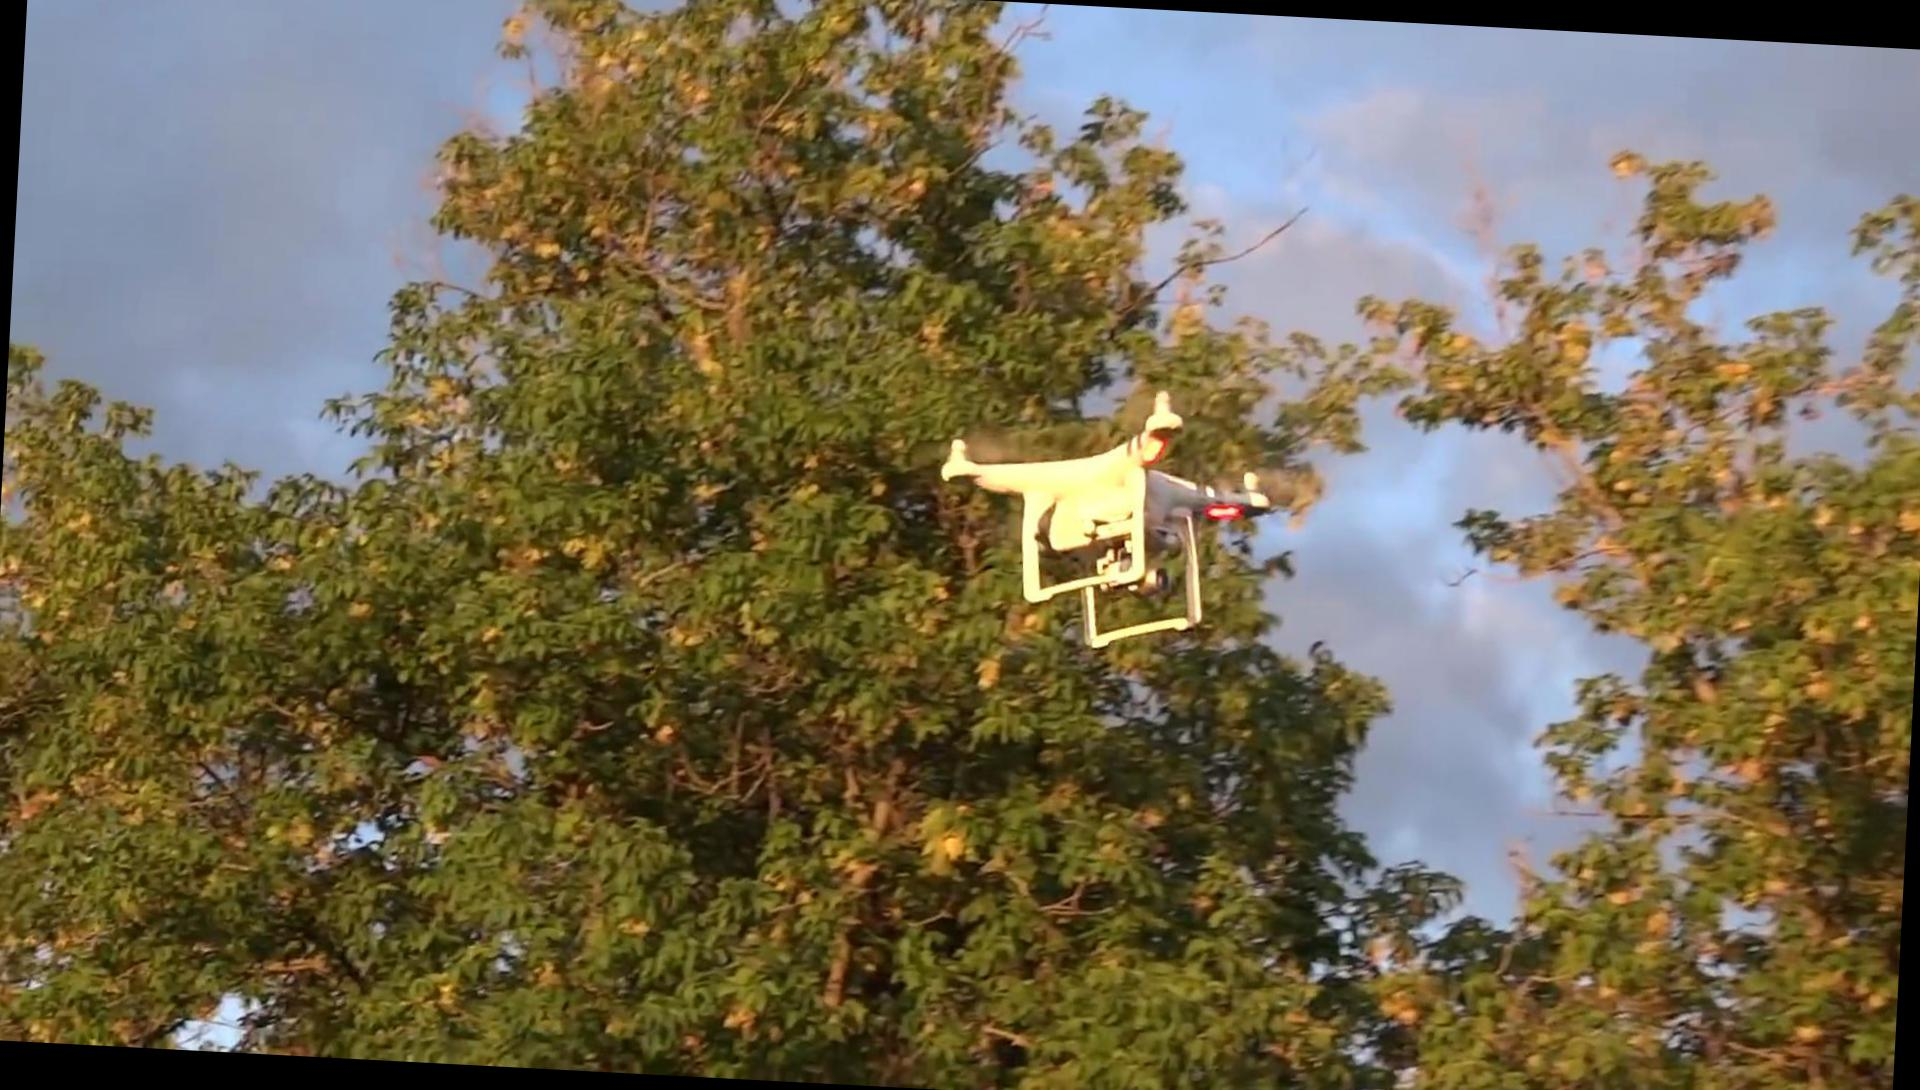drone: (919, 369, 1283, 664)
